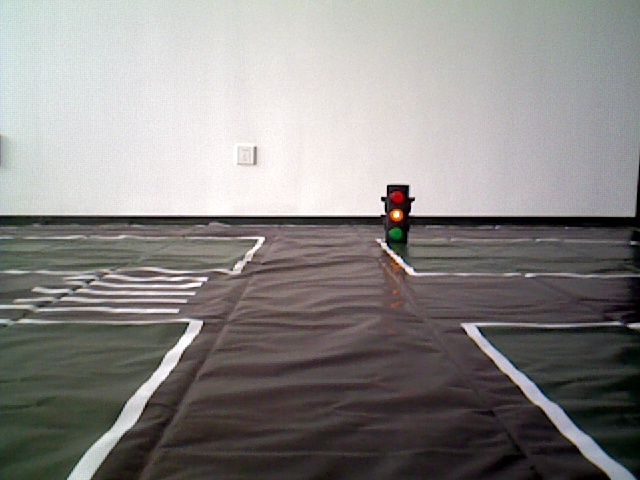yellow: (384, 179, 410, 250)
